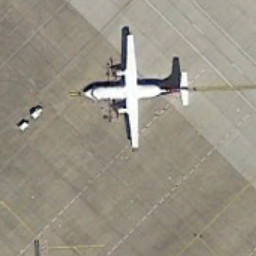Airplane: (76, 25, 196, 155)
